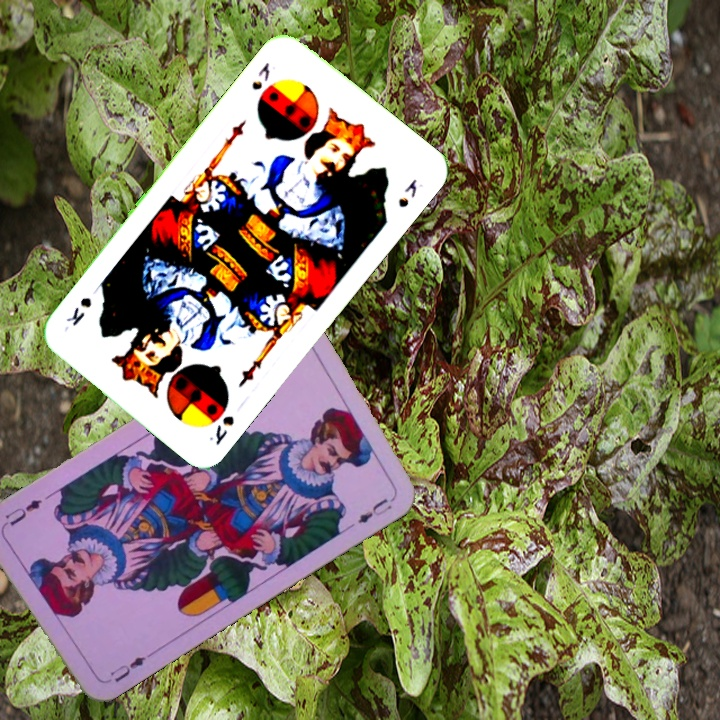EU: (101, 652, 148, 686)
SK: (205, 411, 237, 449), (247, 57, 273, 93)
